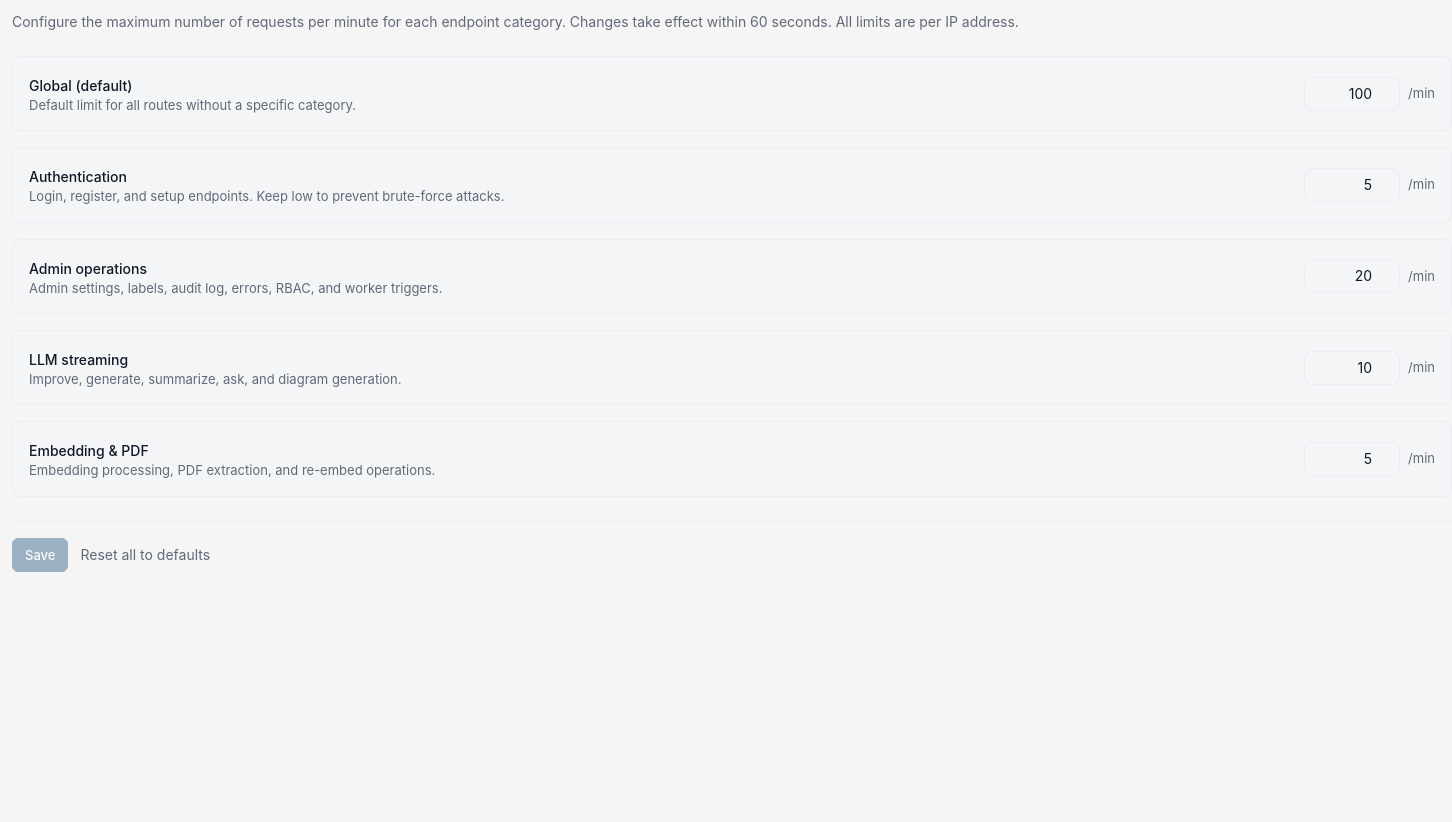
Test: RateLimitsTab › shows security warning for auth < 5
The image size is (1452, 822).
Replace the text in the number field with test id "rate-limit-rateLimitAuth" with "3" at {"x": 1352, "y": 185}, box x1=1304 y1=168 x2=1400 y2=202
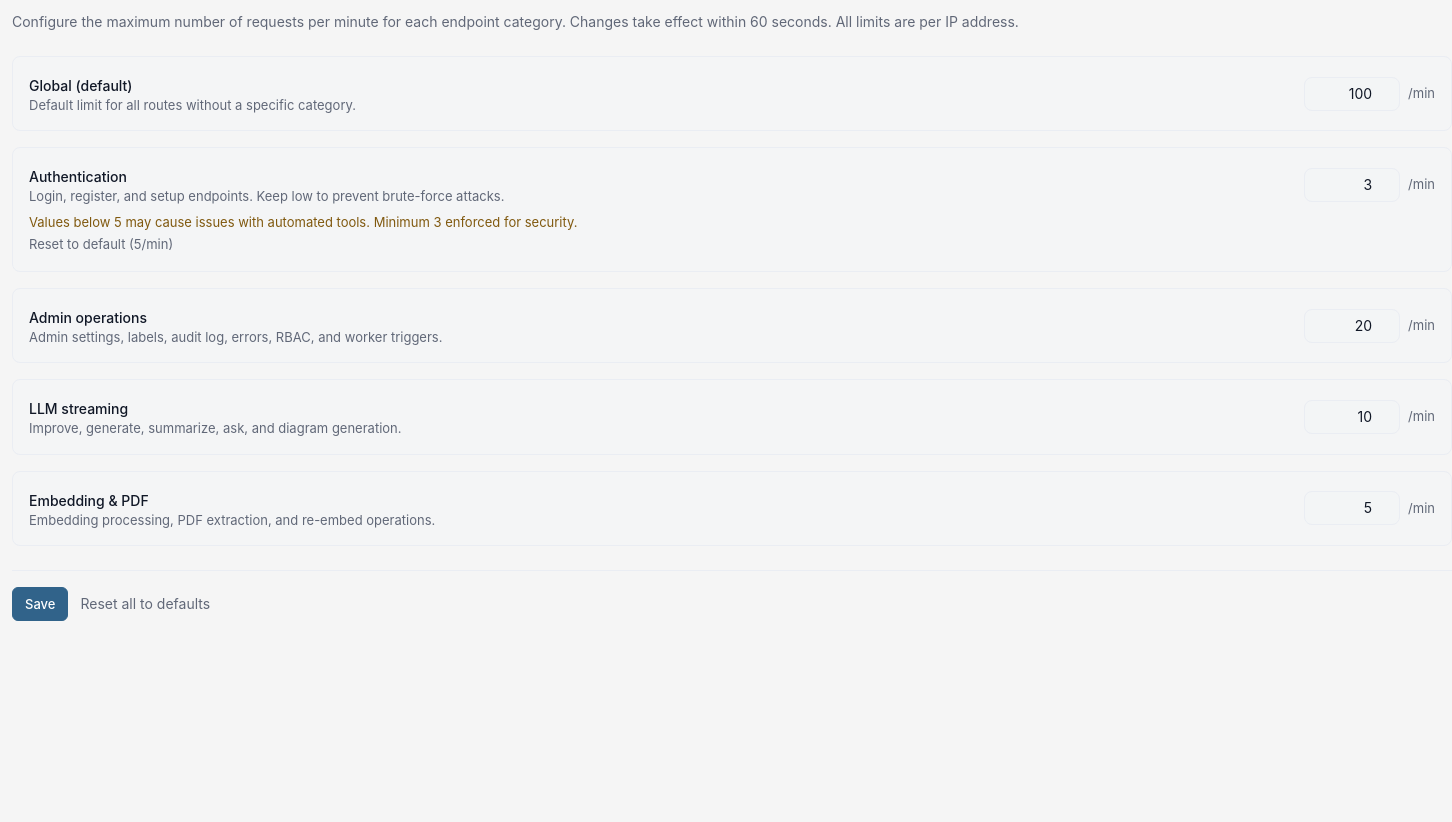
Check: the text "Values below 5 may cause issues" is shown, box x1=29 y1=214 x2=577 y2=230
